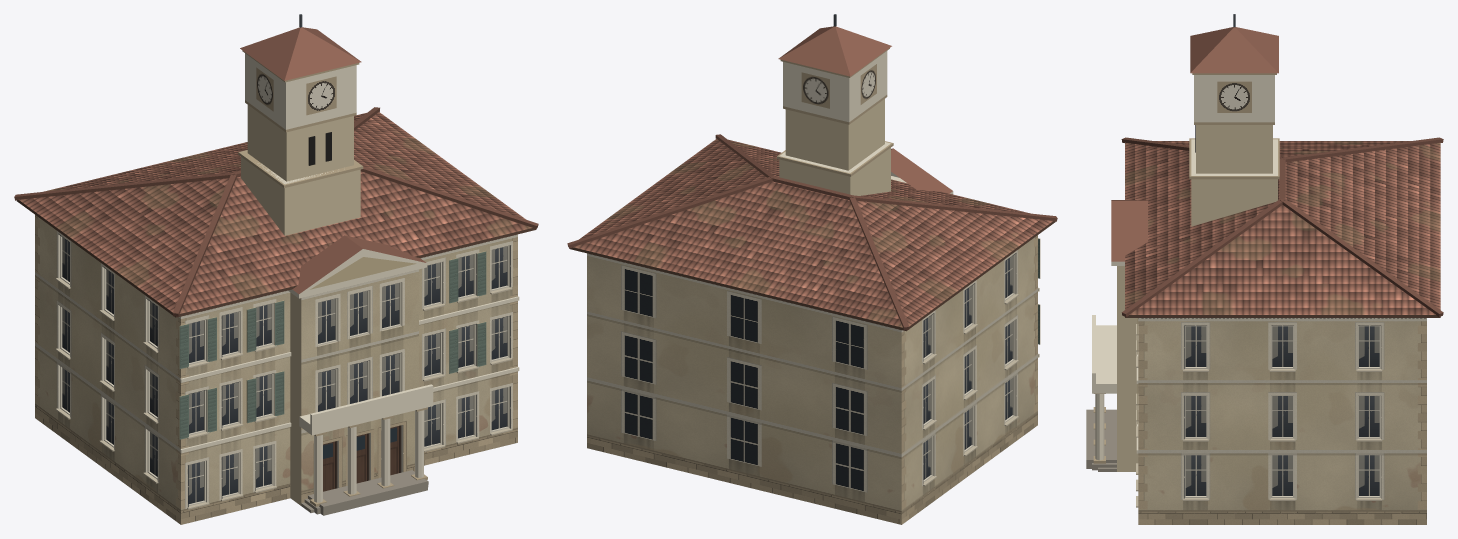
Rendered from hero_civic_a.glb.
3 renders of one model, left to right at view 1: azimuth 30°, elevation 25°; view 2: azimuth 150°, elevation 25°; view 3: azimuth 270°, elevation 25°, orthographic. The views are drawn at different scales.
Parts seen in each view (by area): view 1: bld_hero_civic_a; view 2: bld_hero_civic_a; view 3: bld_hero_civic_a.
Boxes of the visible parts, <box> form: bld_hero_civic_a: <box>14,14,538,524</box>; bld_hero_civic_a: <box>567,14,1057,524</box>; bld_hero_civic_a: <box>1086,14,1443,524</box>.
Size of the model in its own units: 21.73 by 24.6 by 18.56.
1 material, 1 textured.
